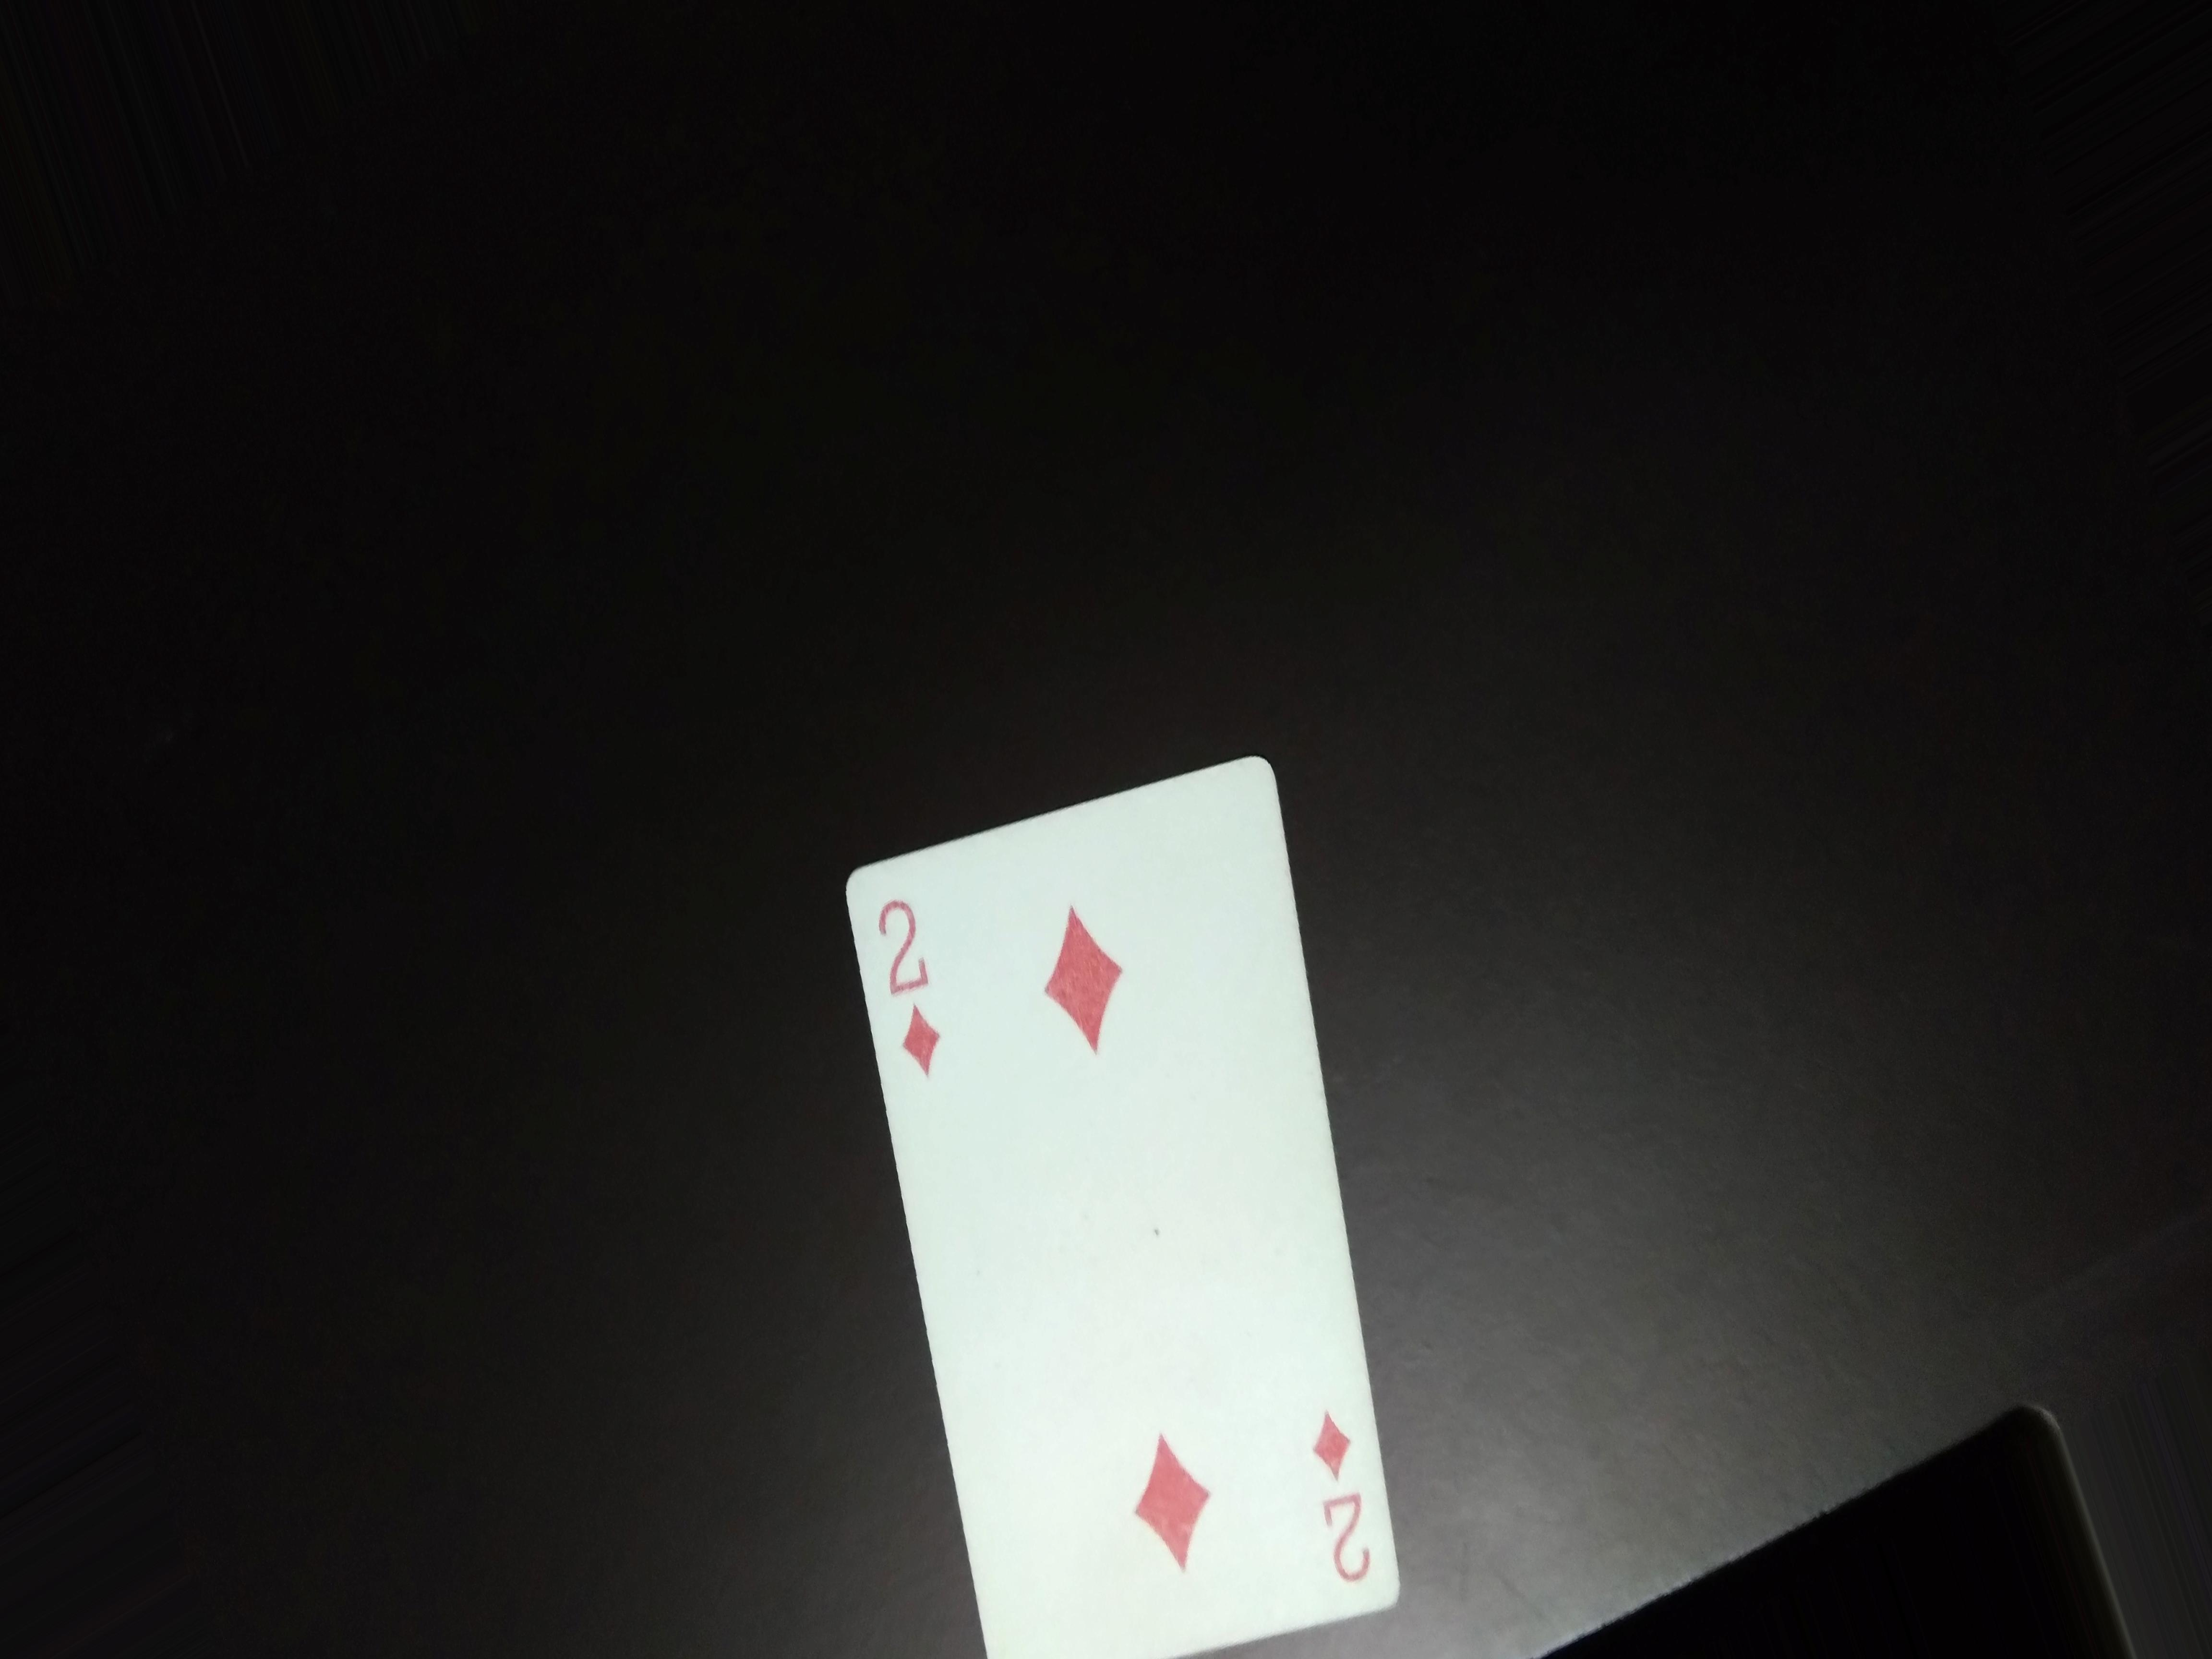2D: (1292, 1391, 1392, 1586)
